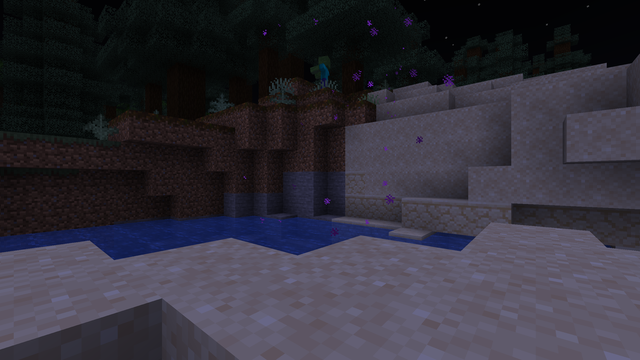zombies: (316, 55, 332, 88)
